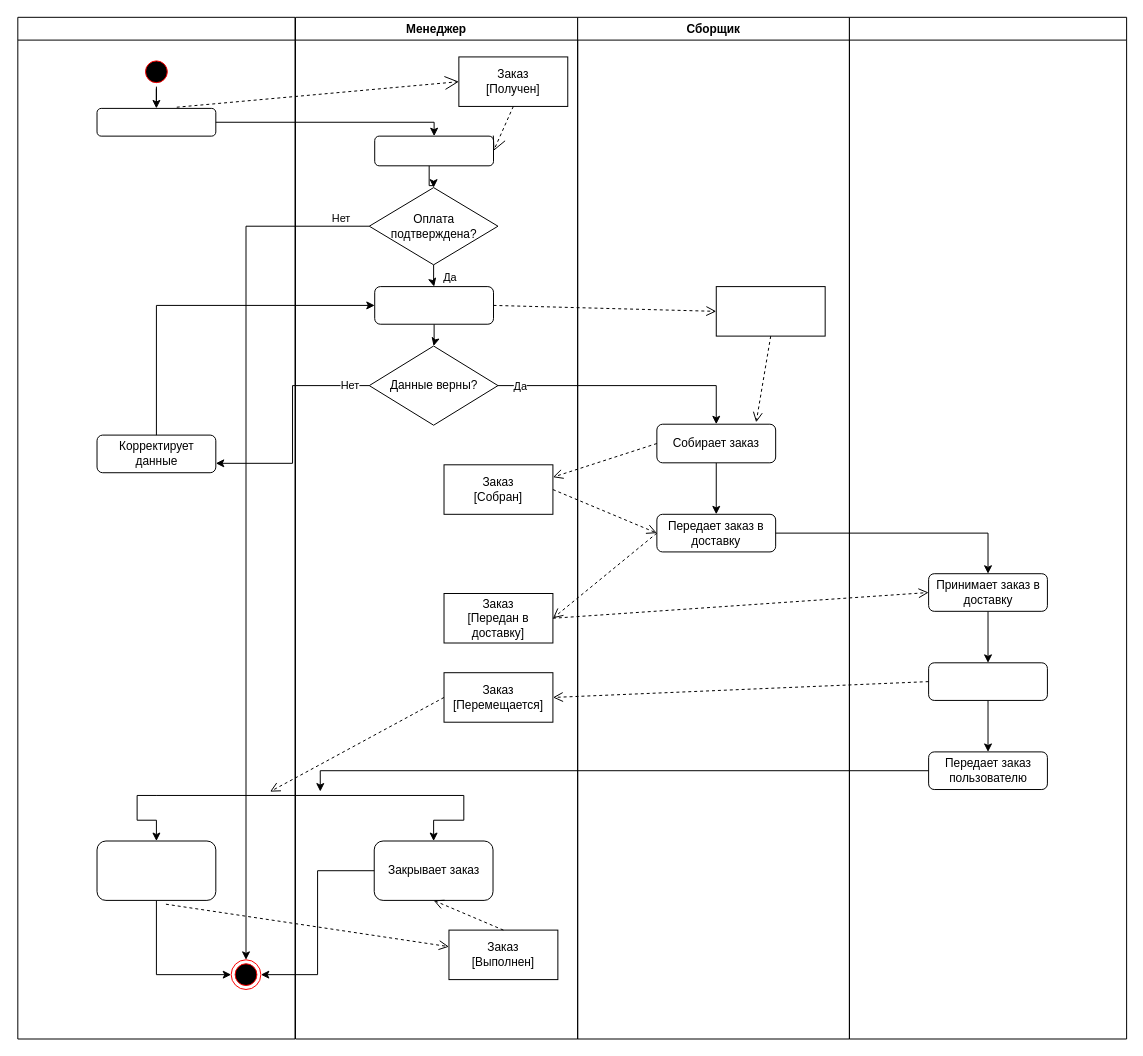
Some shapes in this 1143 by 1056 pixel diagram are drawn without their labels. Here are the shapes that lost their labels. From the top down, the box of each, then its label:
(96, 107, 216, 136): Делает заказ
(374, 135, 494, 166): Проверяет оплату
(374, 286, 494, 324): Проверяет данные для доставки
(715, 286, 825, 336): Заказ [Обработан]
(17, 16, 295, 1039): Пользователь
(848, 16, 1127, 1039): Доставка
(928, 662, 1047, 700): Производит доставку
(96, 840, 216, 900): Получает заказ
